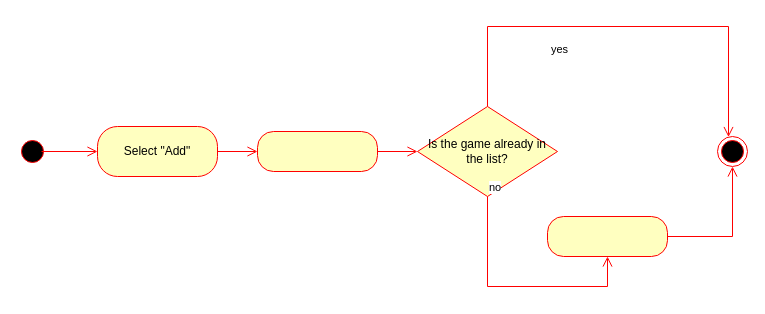
Image size: 765x314. Some labels were removed from this diagram. The centre of each missing label's shape, as x and y in pixels:
Add to the full list: the point at 607,236
Enter the name of the videogame: the point at 317,151
